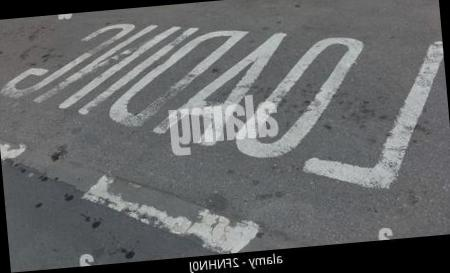faded_road_lines: (0, 0, 450, 221), (78, 154, 262, 266), (0, 136, 36, 177)
